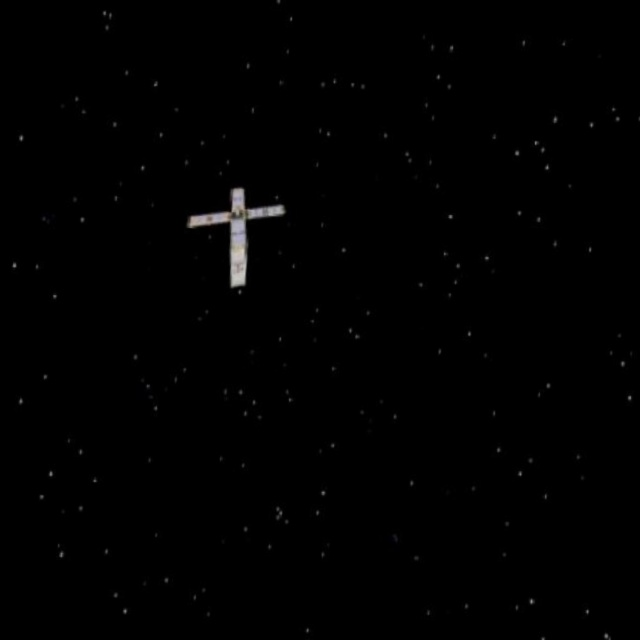medium_debris: (177, 171, 290, 299)
